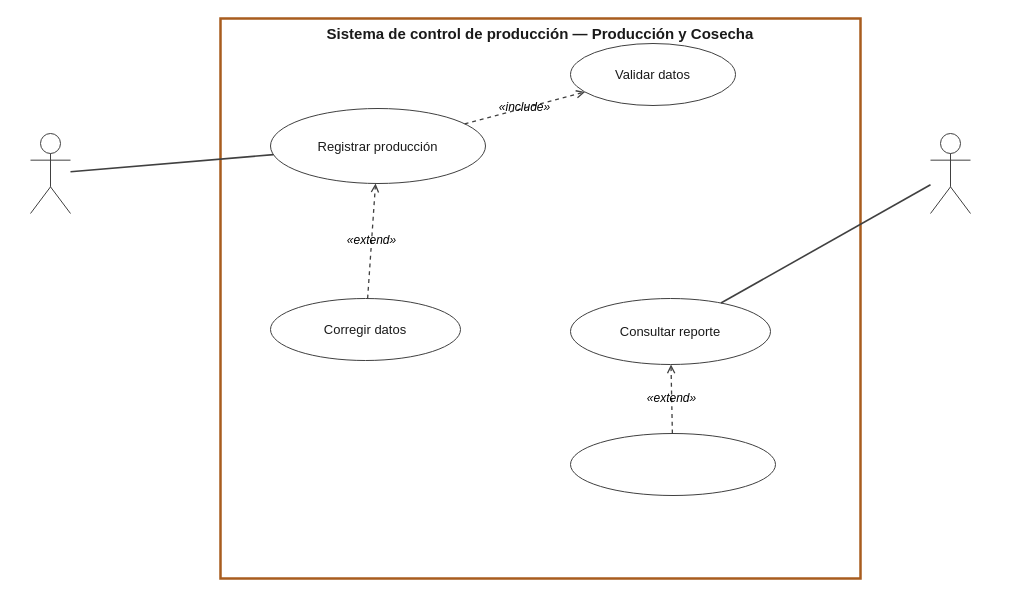
Some shapes in this 1011 by 597 pixel diagram are drawn without their labels. The centre of each missing label's shape, as x and y in pixels:
"Administrador" goes at point (950, 173).
"Exportar reporte en PDF" goes at point (673, 464).
"Trabajador" goes at point (50, 173).
